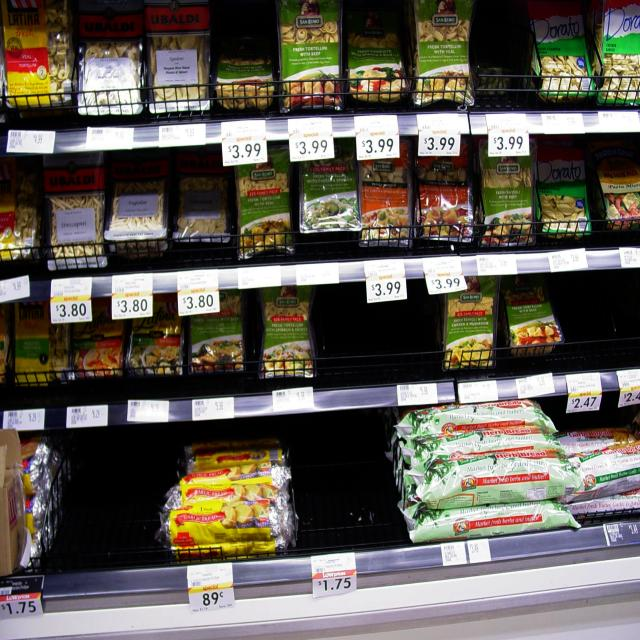empty_space: (300, 438, 394, 542), (73, 458, 155, 558), (324, 315, 440, 373), (560, 286, 634, 354), (477, 21, 527, 92)
